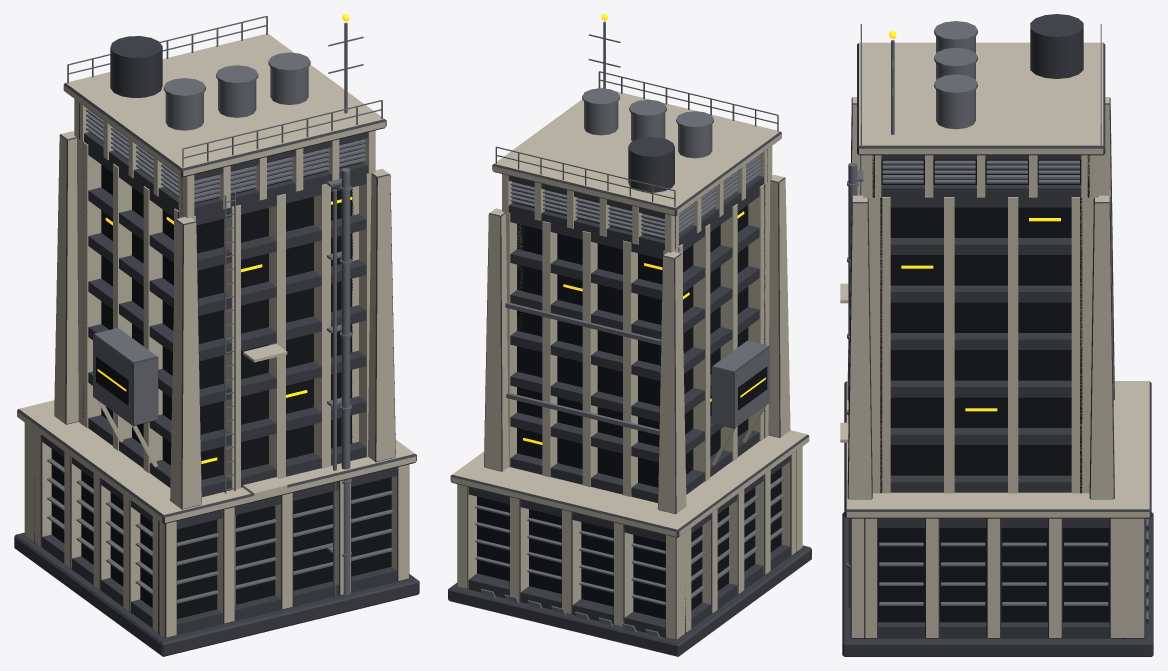
Rendered from utility_midrise.glb.
The picture shows the model from 3 angles, left to right: view 1: azimuth 30°, elevation 25°; view 2: azimuth 150°, elevation 25°; view 3: azimuth 270°, elevation 25°; orthographic projection. The views are drawn at different scales.
Parts seen in each view (by area): view 1: utility_midrise; view 2: utility_midrise; view 3: utility_midrise.
Part boxes in pixels (bbox=[...]): utility_midrise: bbox=[14, 14, 419, 656]; utility_midrise: bbox=[448, 14, 811, 656]; utility_midrise: bbox=[840, 14, 1153, 656].
Bounding box in the file's own units: 14.8 × 31.5 × 14.9.
